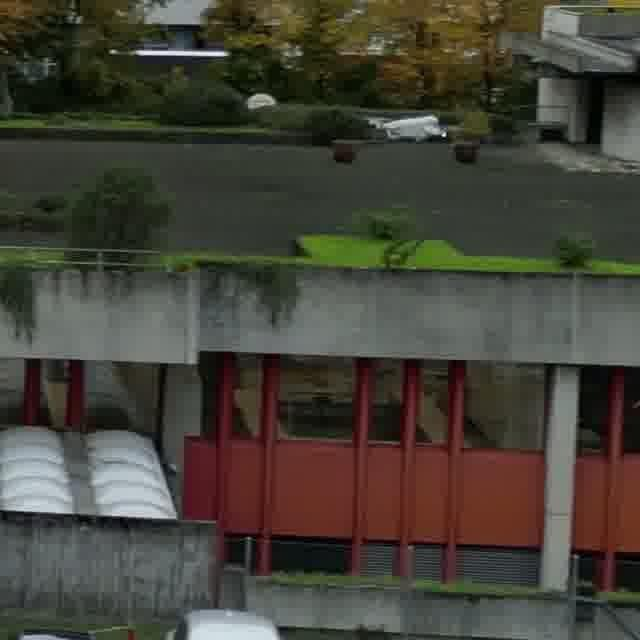Drohne: (382, 115, 448, 141)
